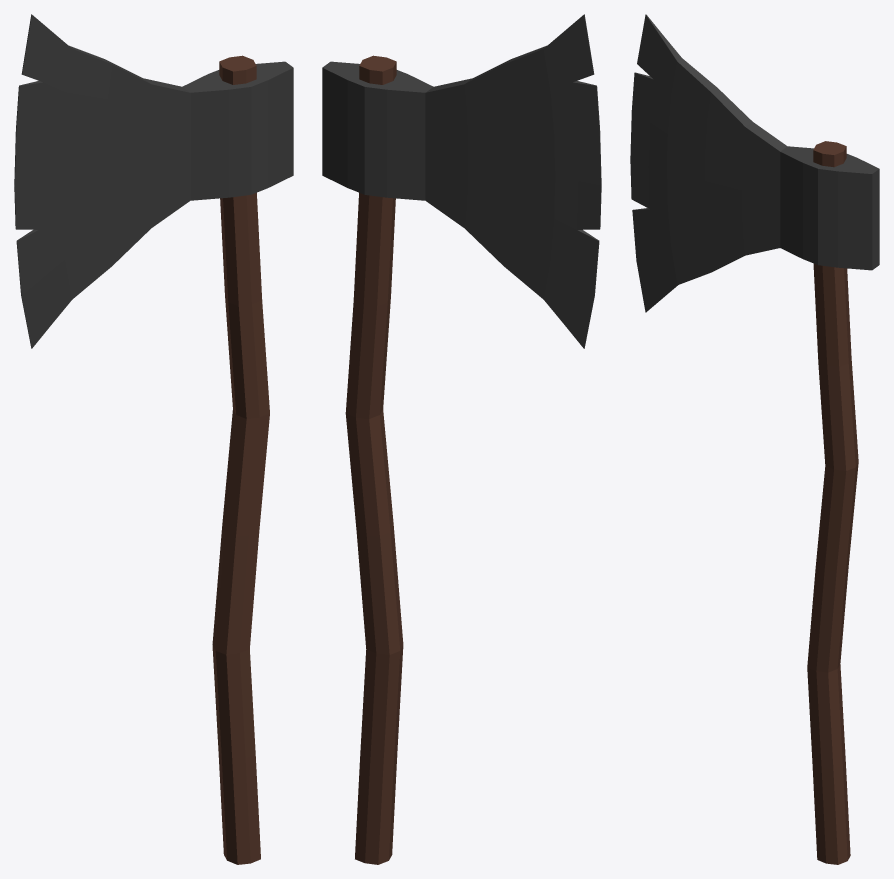
File: axe.fbx
3 views of the same model, side by side, from view 1: azimuth 30°, elevation 25°; view 2: azimuth 150°, elevation 25°; view 3: azimuth 330°, elevation 25° (orthographic). The views are drawn at different scales.
Visible parts, largest first — view 1: Plane; view 2: Plane; view 3: Plane.
Boxes of the visible parts, box(x1,y1,x2,y2) form: Plane: box(14, 14, 293, 864); Plane: box(322, 14, 601, 864); Plane: box(630, 14, 879, 864).
Size of the model in its own units: 533 by 1657 by 88.95.
